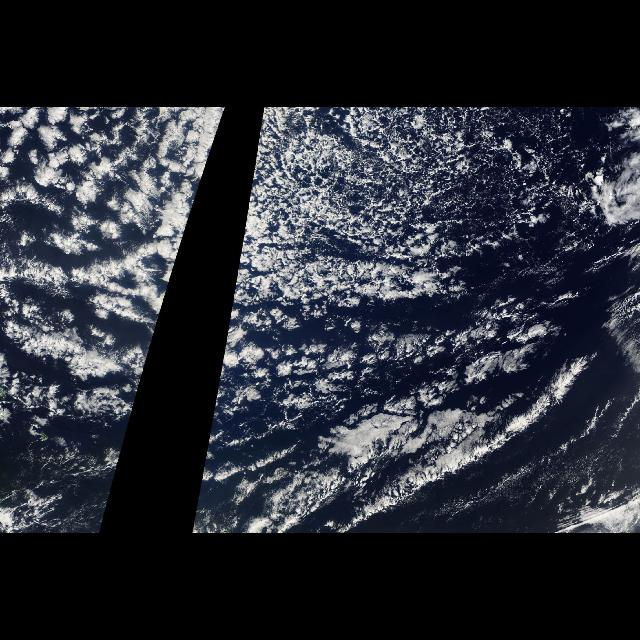Fish: (392, 429, 508, 499), (494, 354, 602, 426)
Flower: (242, 328, 614, 526), (8, 120, 205, 436)
Gravel: (252, 107, 616, 313)
Sugar: (1, 109, 193, 423)
